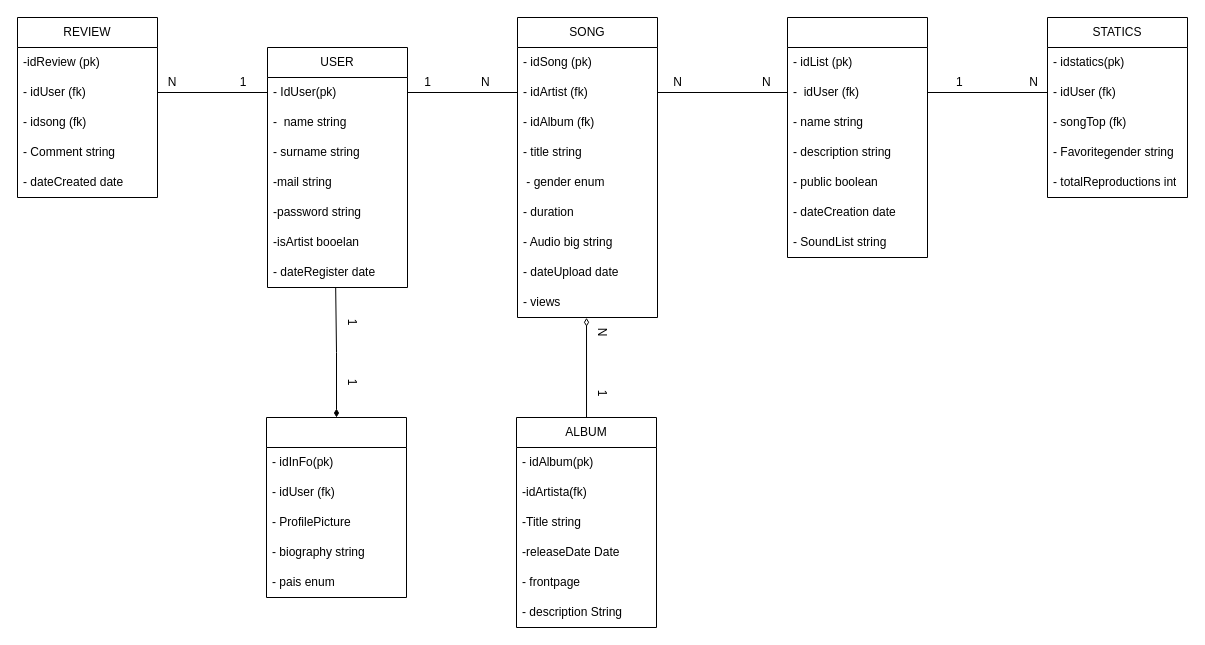
This 1205x645 diagram has some shape labels left out. Each missing label, with the box of its shape:
INFOUSER: (266, 416, 406, 598)
REPRODUCTIONSLIST: (786, 16, 928, 258)
